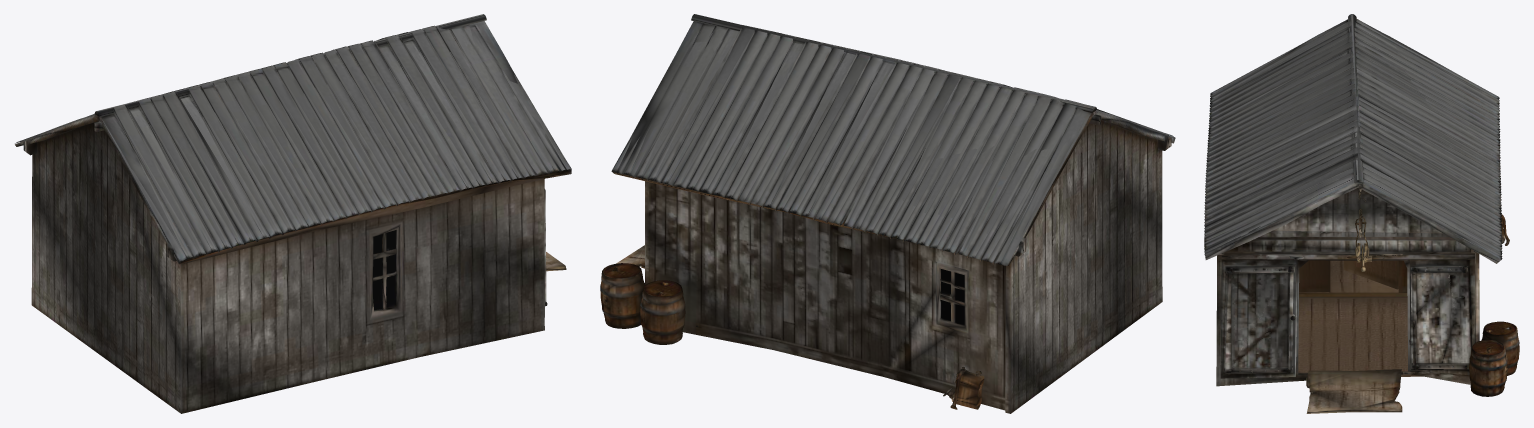
Rendered from dock_warehouse.glb.
3 renders of one model, left to right at view 1: azimuth 30°, elevation 25°; view 2: azimuth 150°, elevation 25°; view 3: azimuth 270°, elevation 25°, orthographic. The views are drawn at different scales.
Visible parts, largest first — view 1: tripo_node_3d97910b-a5d0-470f-8640-2c4832a467a2; view 2: tripo_node_3d97910b-a5d0-470f-8640-2c4832a467a2; view 3: tripo_node_3d97910b-a5d0-470f-8640-2c4832a467a2.
Boxes of the visible parts, left/top/right/bottom form: tripo_node_3d97910b-a5d0-470f-8640-2c4832a467a2: left=15, top=14, right=571, bottom=413; tripo_node_3d97910b-a5d0-470f-8640-2c4832a467a2: left=600, top=14, right=1175, bottom=413; tripo_node_3d97910b-a5d0-470f-8640-2c4832a467a2: left=1204, top=14, right=1519, bottom=413.
Bounding box in the file's own units: 9.63 × 5.2 × 6.82.
Materials: 1 (1 with a texture image).
